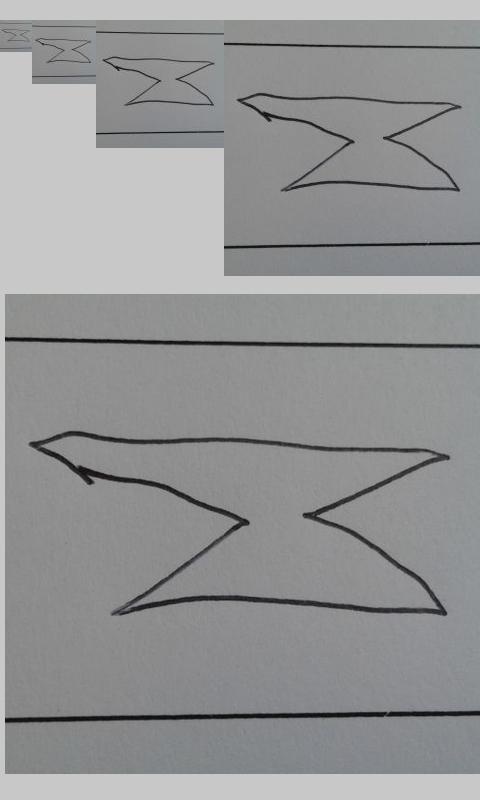edit_text: (26, 429, 454, 620), (237, 90, 464, 194), (102, 54, 217, 108), (36, 37, 92, 64), (1, 28, 30, 42)
